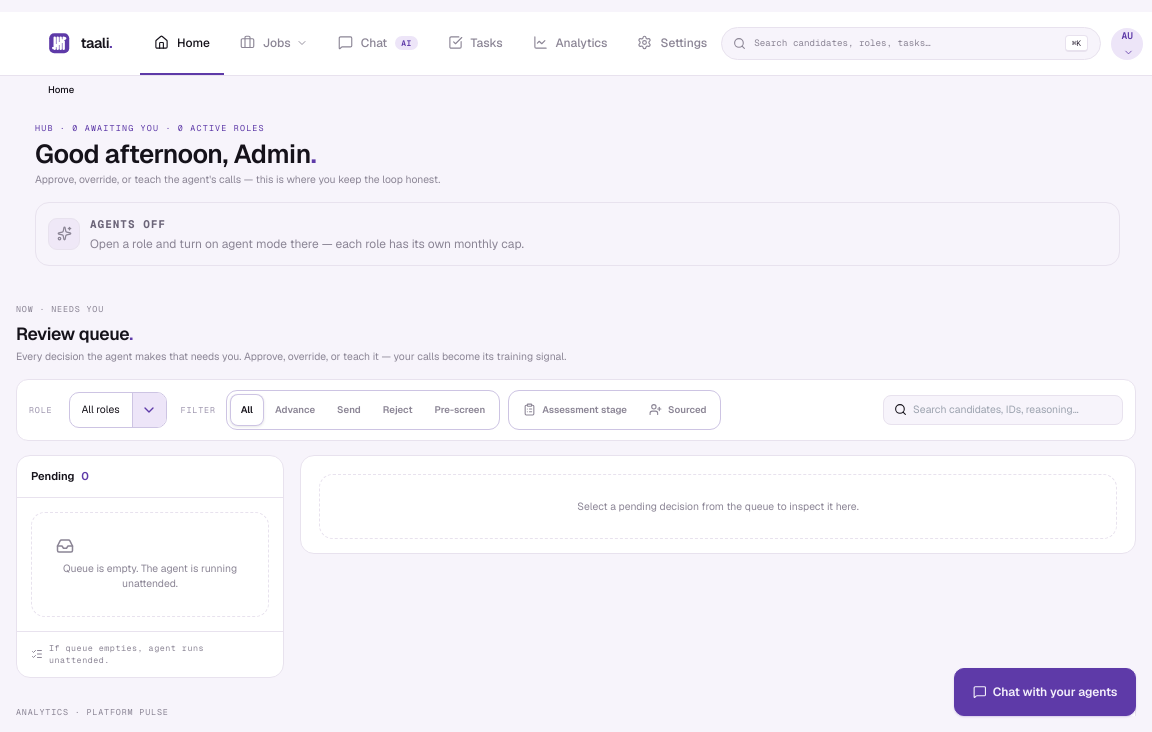
Test: TasksPage › shows loading state while fetching tasks
What coordinates should you click on to do the following:
click the link "Tasks"
I would click on:
 (475, 42)
Its box is [448, 34, 503, 50].
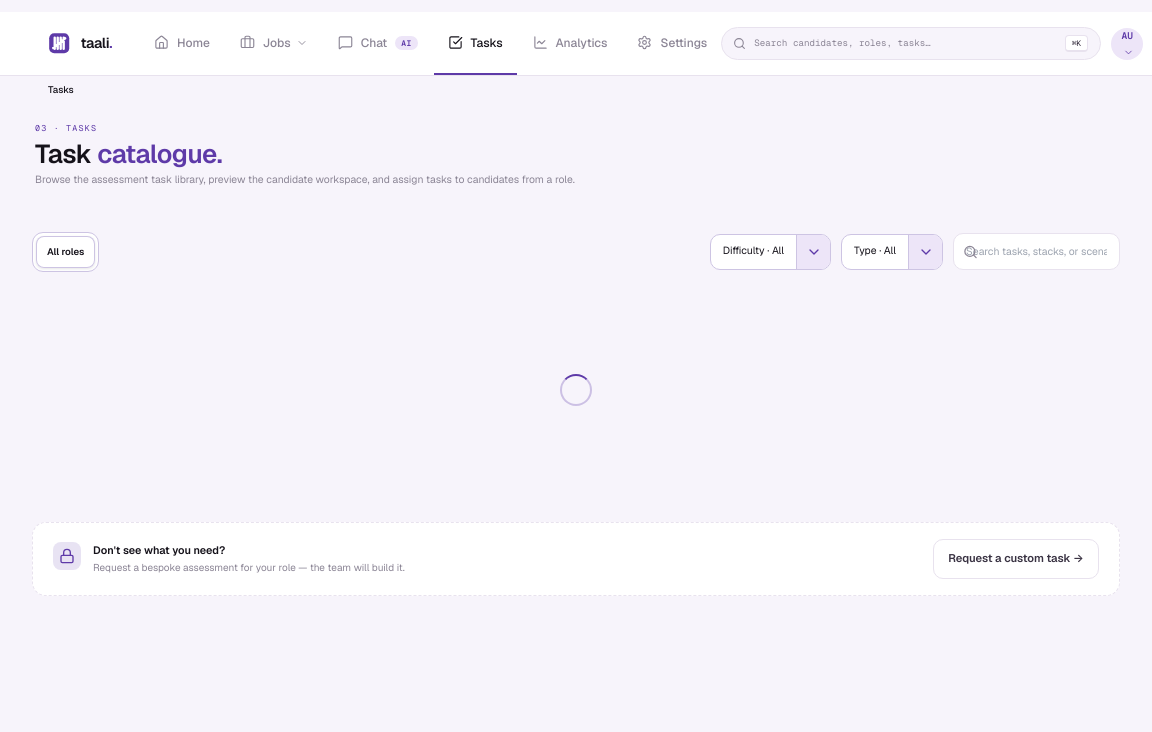
expect the heading "Task catalogue." is shown: met, box [35, 137, 222, 171]
expect the message named "Loading task library" is shown: met, box [560, 374, 592, 406]
